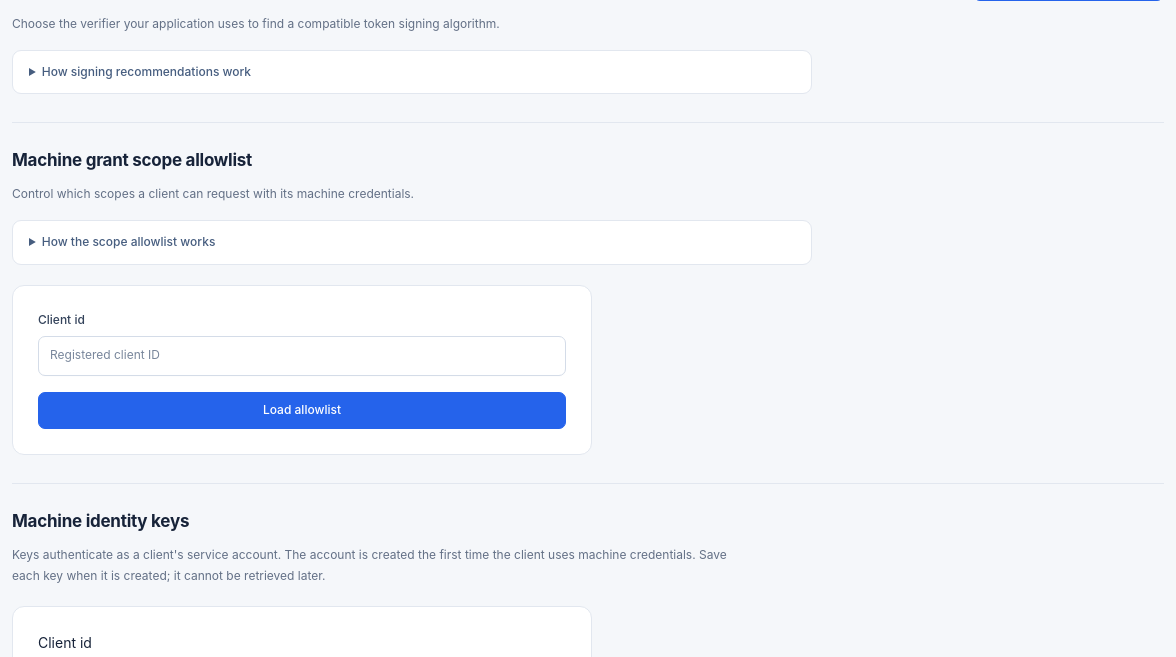
the panel keeps the three server states distinct › renders a null allowlist as unrestricted
(page scrolled)
Type "cli_a" into the field with id "allowed-scopes-client-id" at (302, 356), box [38,336,566,376]
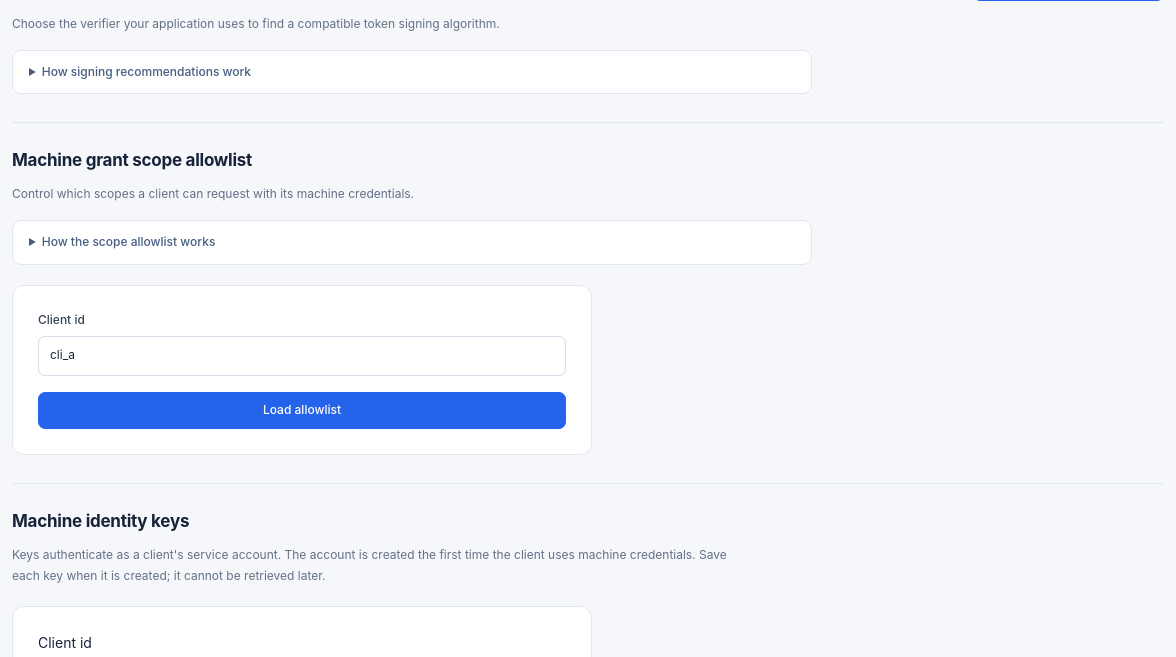
Click the button "Load allowlist" at (302, 410), box [38,392,566,429]
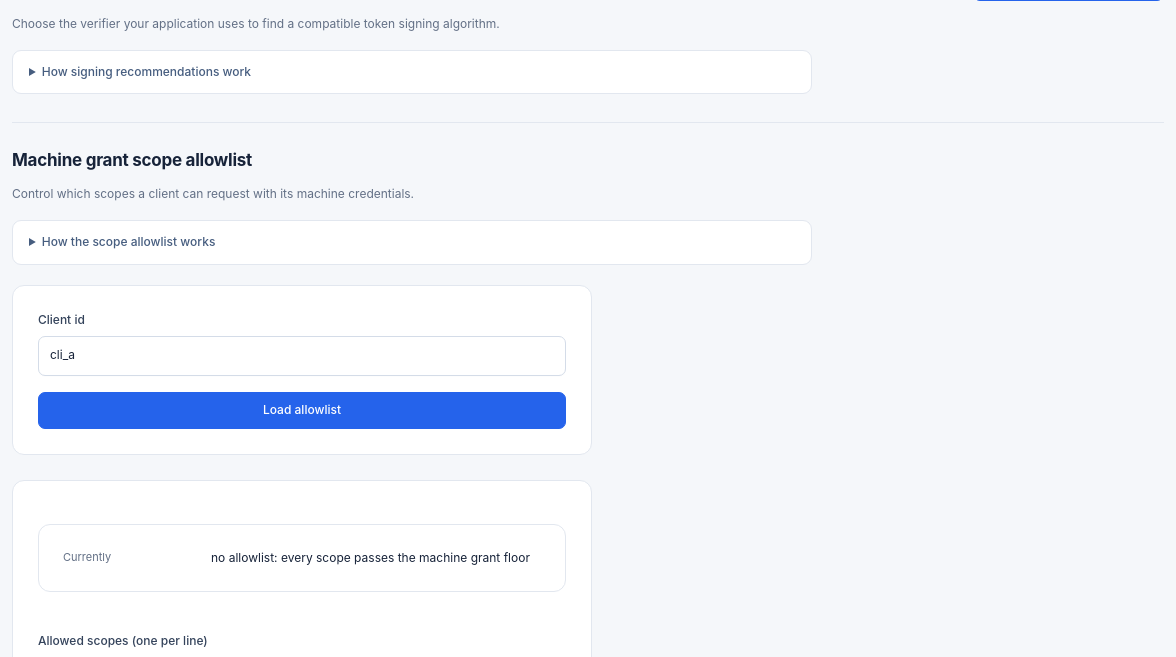
expect the text "no allowlist: every scope passes the machine grant floor" is shown: met, box [211,549,541,567]
